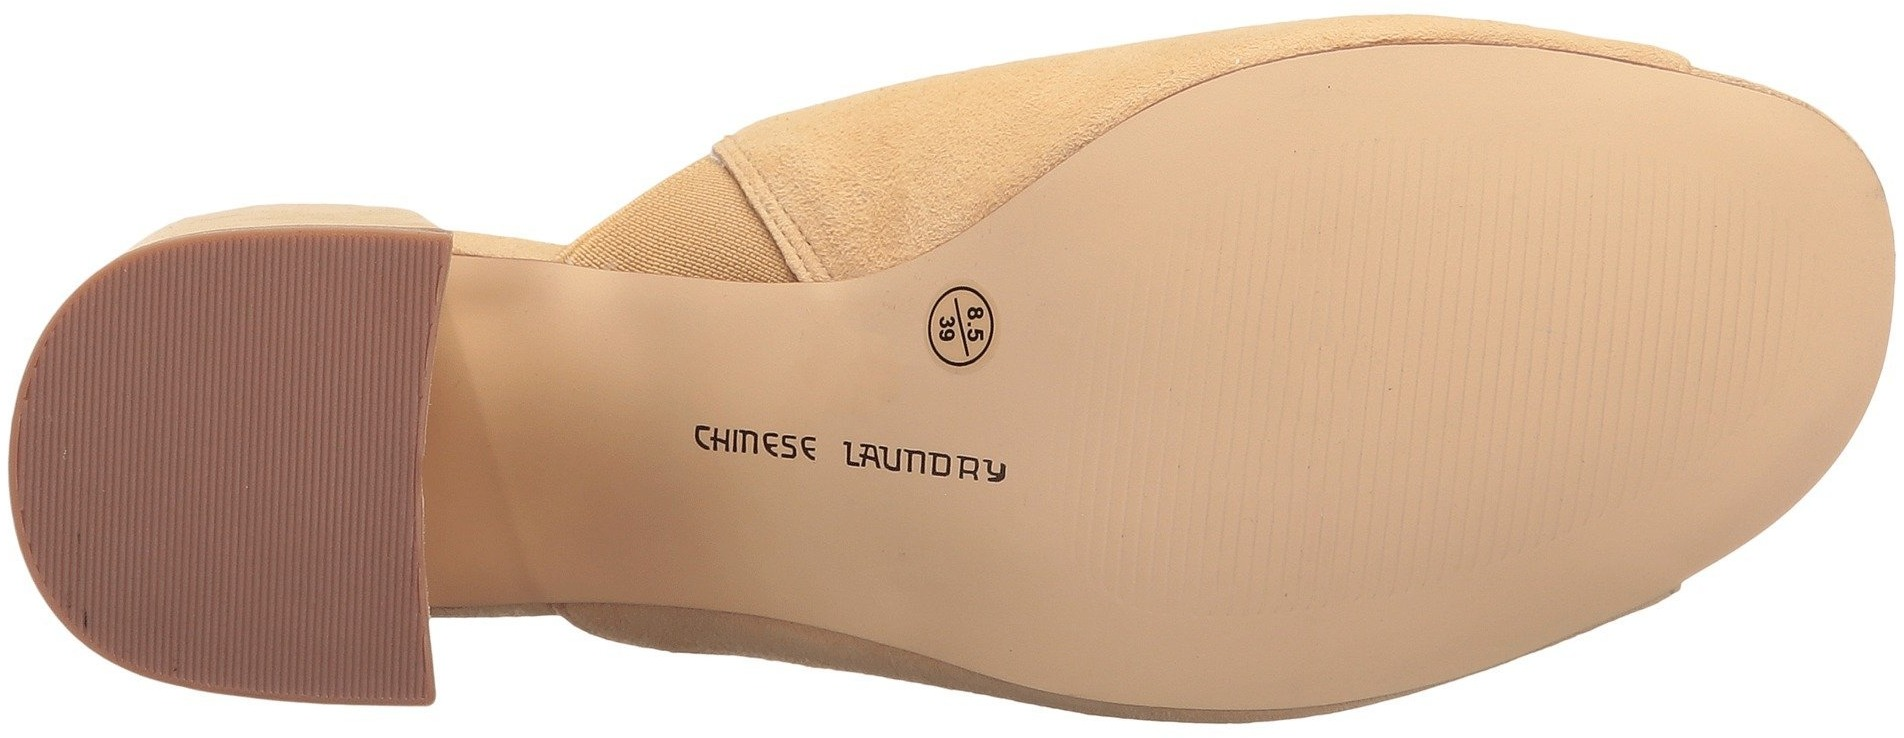circle: (929, 276, 1001, 388)
line: (929, 276, 1001, 388)
other: (1325, 225, 1613, 489), (1062, 318, 1317, 584), (160, 252, 414, 486), (195, 490, 399, 689), (1617, 187, 1815, 353), (18, 388, 161, 538)
text: (929, 276, 1001, 388), (967, 299, 1005, 340)
